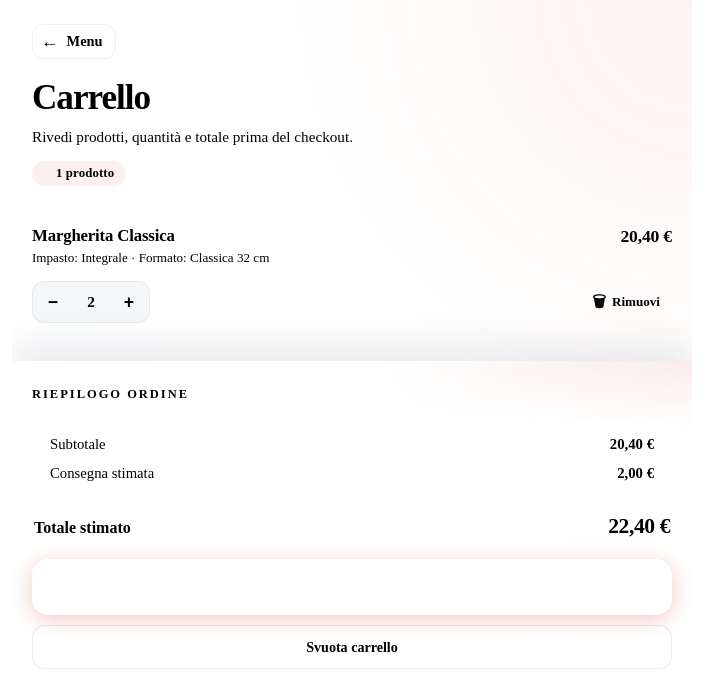
Test case: cart screen › returns to the empty state after clearing the cart
What coordinates should you click on to do the following:
click the button "Svuota carrello"
I would click on:
 (352, 647)
Its box is [32, 625, 672, 669].
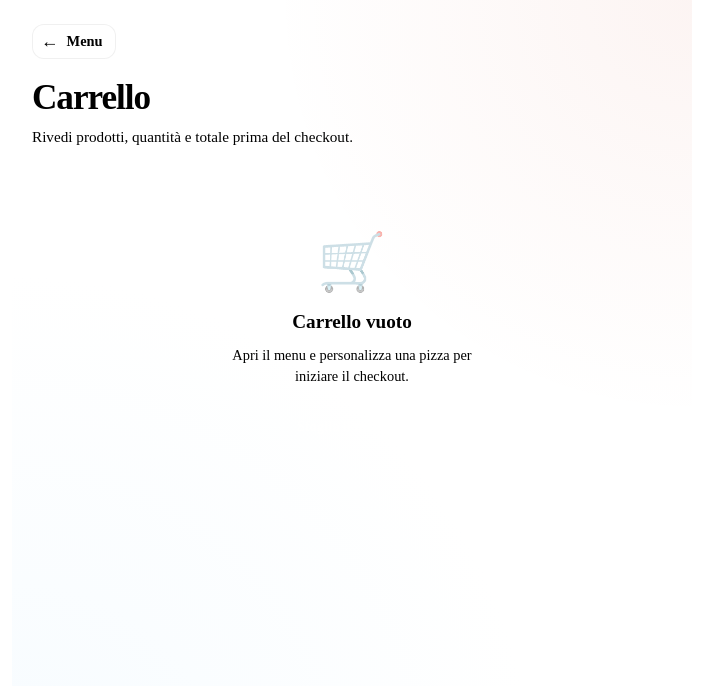
Check: the text "Carrello vuoto" is shown, box [292, 310, 412, 332]
Check: the heading "Riepilogo ordine" is gone
